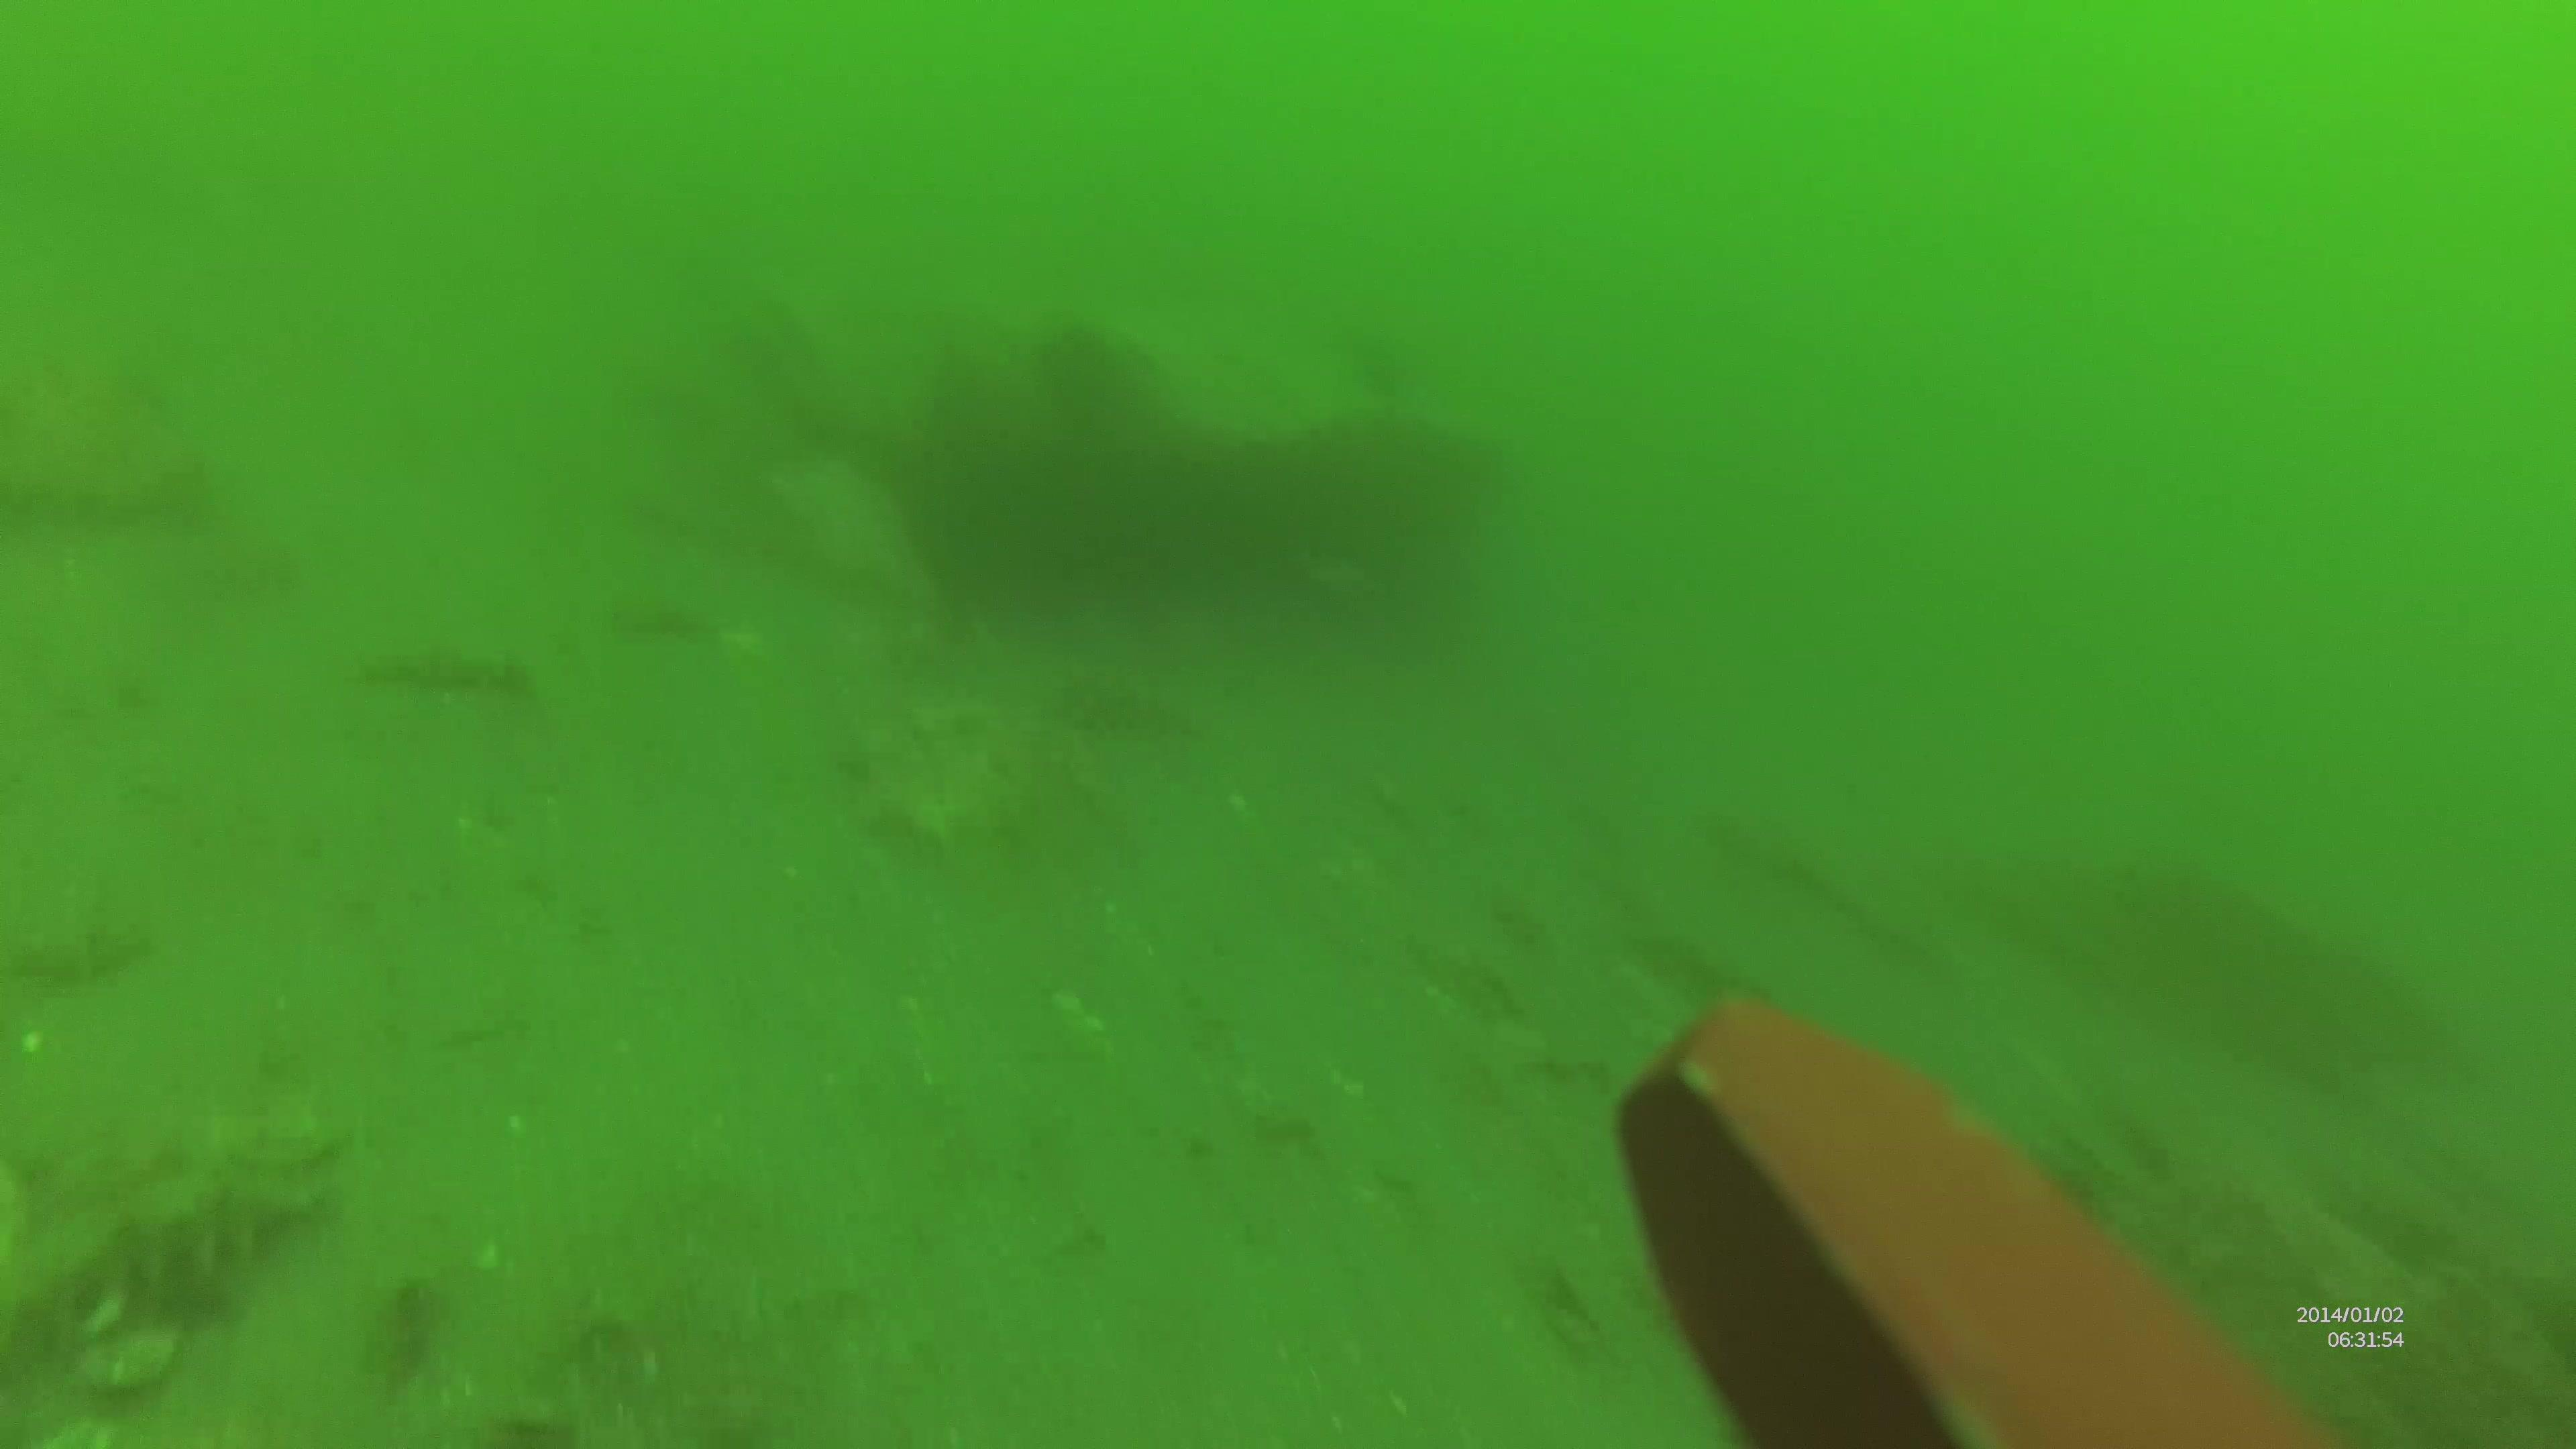holothurian: (16, 1157, 333, 1339)
